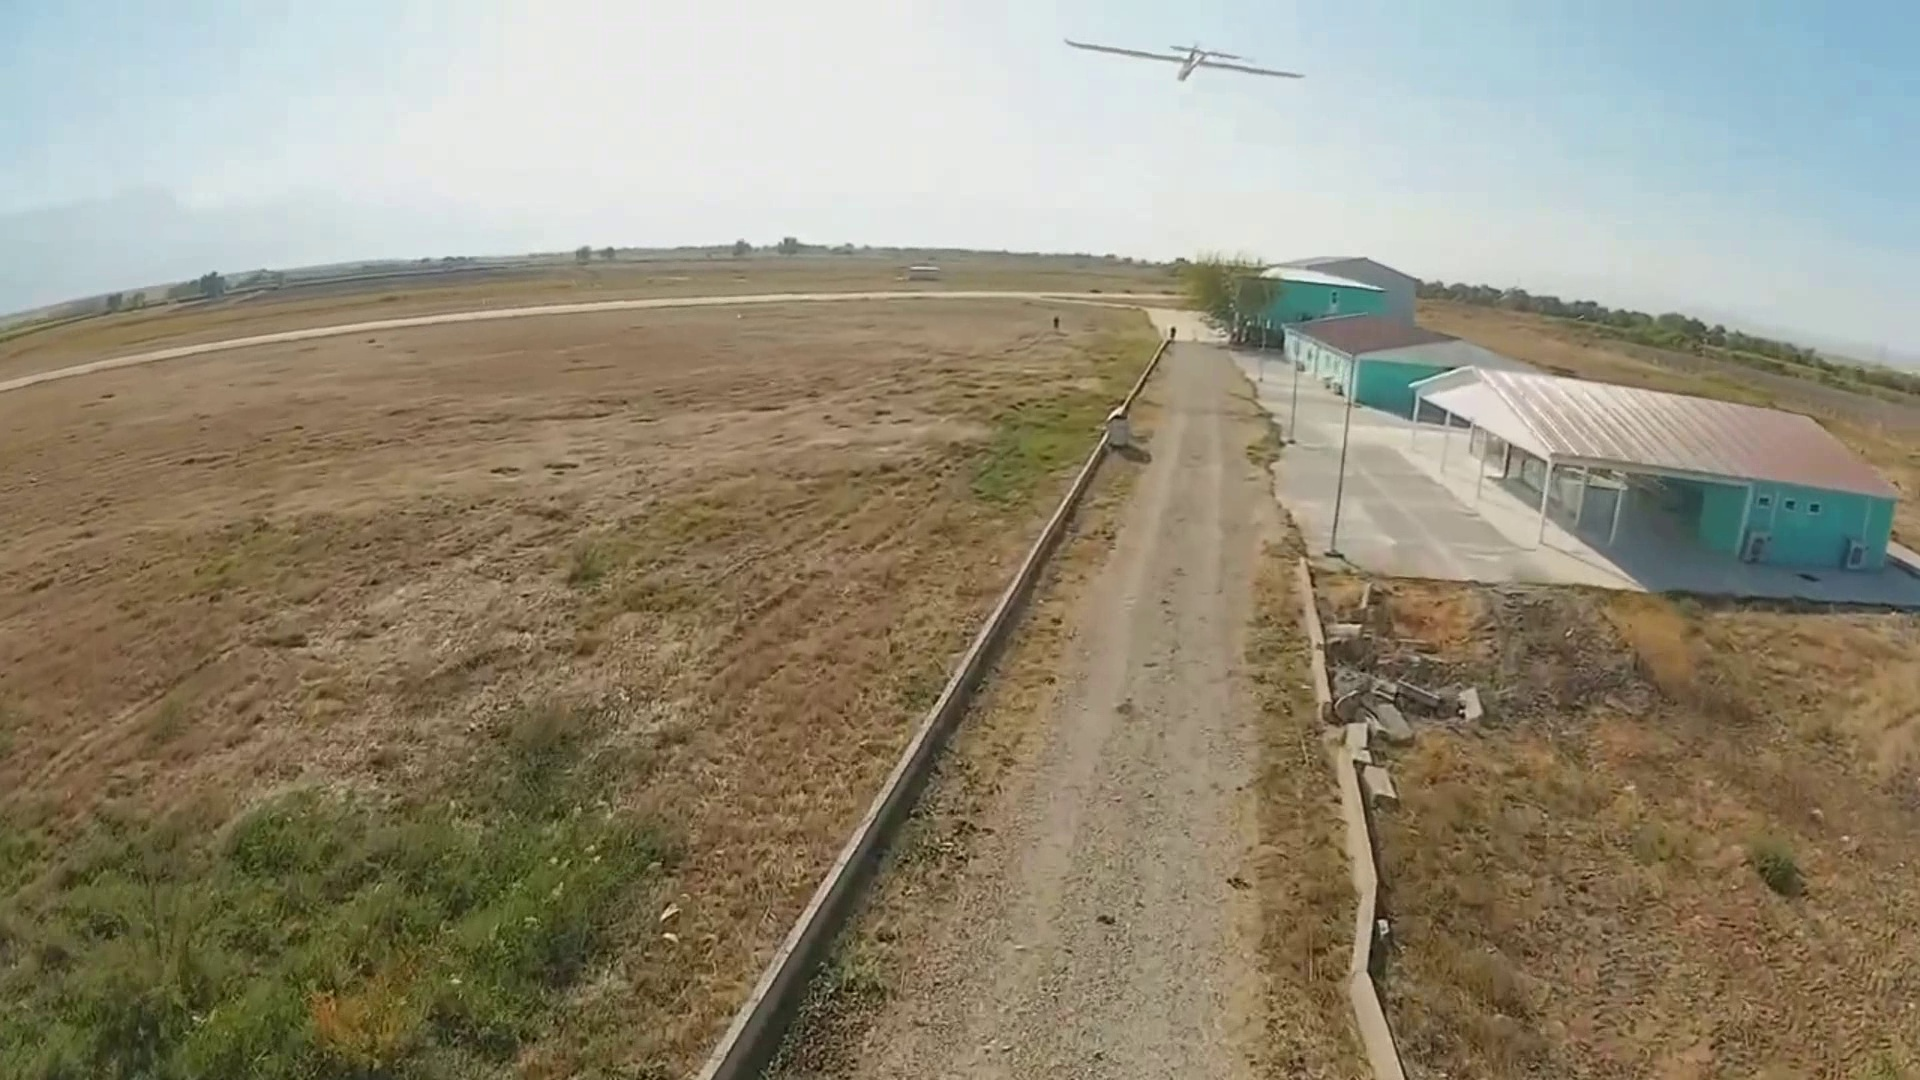airplane: (1061, 34, 1307, 90)
